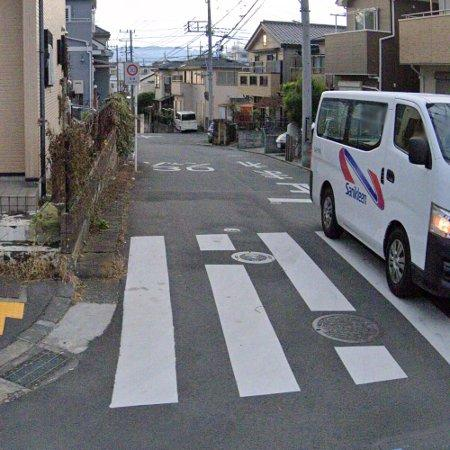crosswalks: (105, 230, 450, 407)
